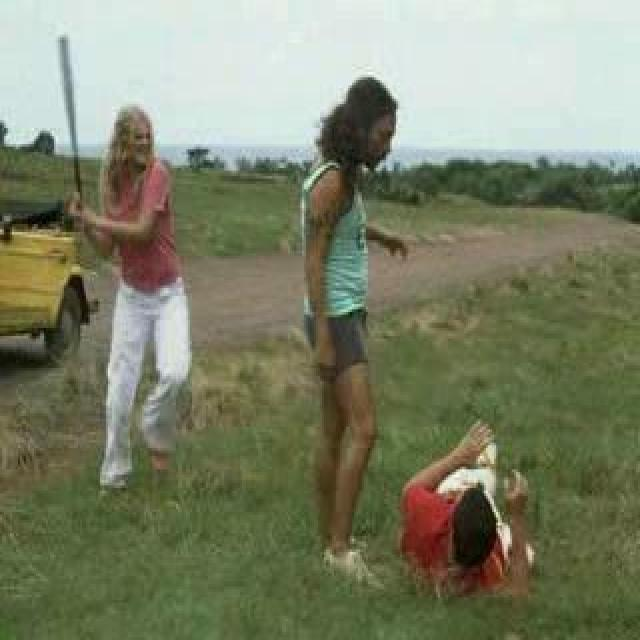fight: (272, 16, 550, 640), (56, 49, 212, 473)
